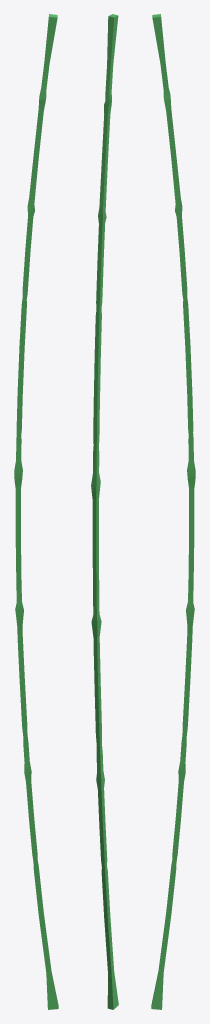
The model's file is jungle_slime_C_knots.fbx.
3 views of the same model, side by side, from view 1: azimuth 90°, elevation 25°; view 2: azimuth 150°, elevation 25°; view 3: azimuth 270°, elevation 25° (orthographic).
Parts seen in each view (by area): view 1: jungle_slime_C_knots; view 2: jungle_slime_C_knots; view 3: jungle_slime_C_knots.
Part boxes in pixels (left/top/right/bottom): jungle_slime_C_knots: left=14, top=14, right=58, bottom=1009; jungle_slime_C_knots: left=91, top=14, right=118, bottom=1009; jungle_slime_C_knots: left=151, top=14, right=195, bottom=1009.
Size of the model in its own units: 4.76 by 683 by 27.77.
